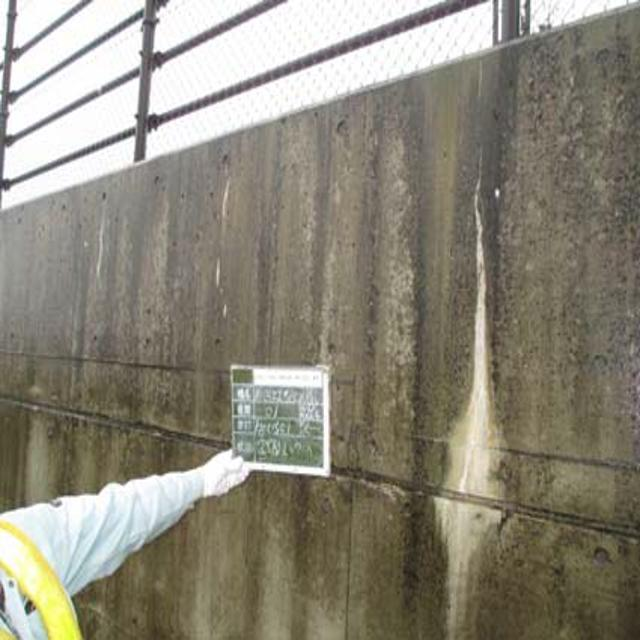freelime: (422, 197, 514, 636)
